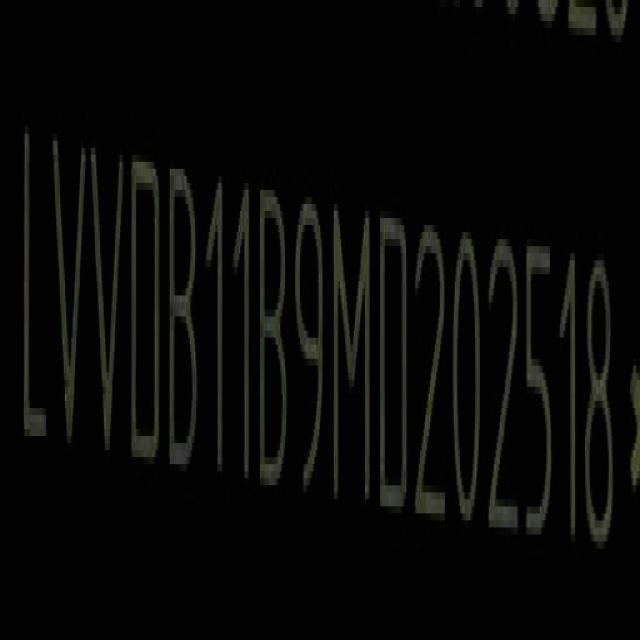0: (453, 227, 485, 537)
1: (207, 168, 229, 490), (558, 241, 579, 554), (235, 175, 254, 493)
2: (489, 231, 524, 543), (416, 221, 448, 535)
5: (524, 230, 554, 544)
8: (587, 248, 617, 557)
9: (296, 192, 327, 504)
B: (258, 177, 290, 494), (170, 158, 200, 482)
D: (130, 148, 166, 474), (380, 202, 412, 523)
L: (20, 118, 52, 459)
M: (332, 193, 373, 516)
V: (50, 130, 86, 466), (92, 137, 128, 470)
